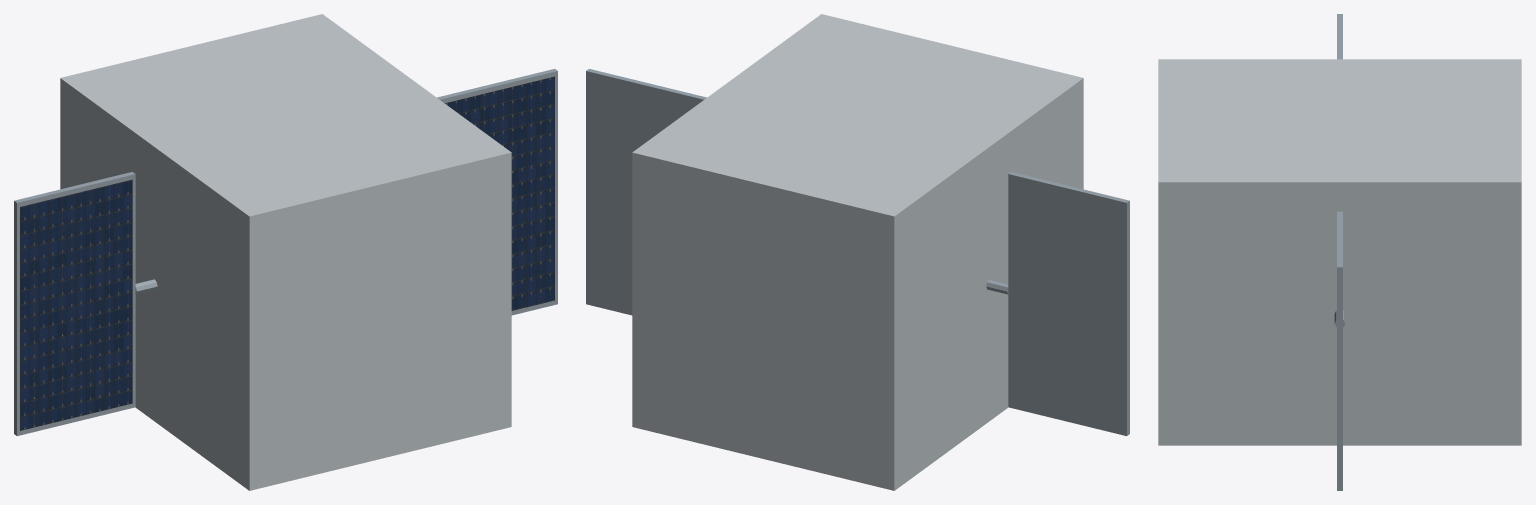
The model's file is ref-mds-27367.glb.
3 views of the same model, side by side, from view 1: azimuth 30°, elevation 25°; view 2: azimuth 150°, elevation 25°; view 3: azimuth 270°, elevation 25° (orthographic). The views are drawn at different scales.
Visible parts, largest first — view 1: Spacecraft body, Photovoltaic laminates (×2), Array frame (×2); view 2: Spacecraft body, Array frame (×2); view 3: Spacecraft body, Array frame.
Boxes of the visible parts, x1,y1,x2,y2 form: Spacecraft body: (60, 14, 511, 490); Photovoltaic laminates (×2): (20, 76, 554, 430); Array frame (×2): (14, 69, 557, 435); Spacecraft body: (632, 14, 1083, 490); Array frame (×2): (586, 69, 1129, 435); Spacecraft body: (1158, 59, 1521, 445); Array frame: (1337, 211, 1342, 490).
Bounding box in the file's own units: 3.3 × 1.6 × 2.
3 materials, 1 textured.
